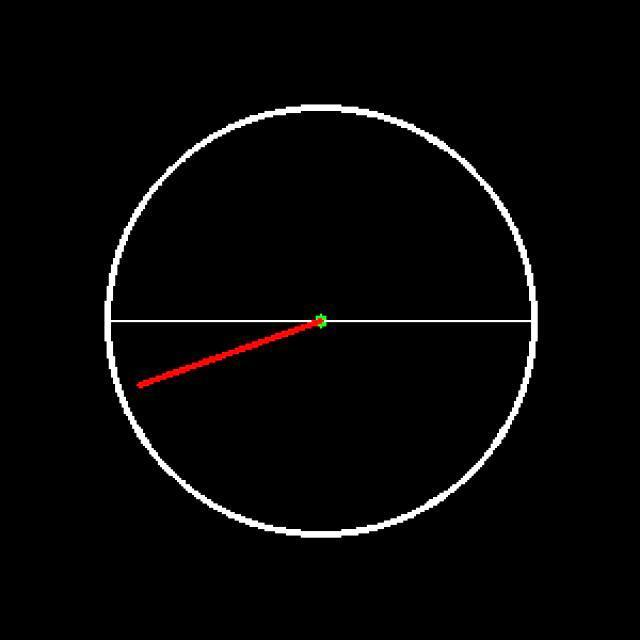Needle_Tip: (123, 355, 165, 401)
Needle_base: (284, 298, 357, 360)
